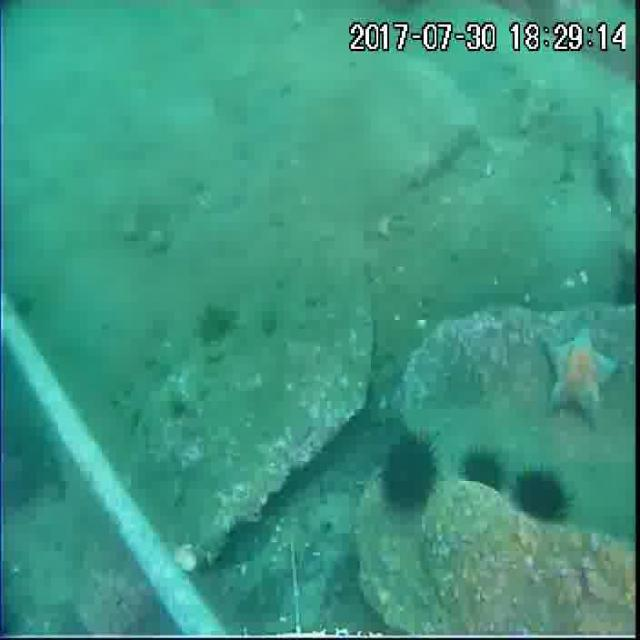echinus: (379, 426, 440, 514), (516, 470, 564, 518), (458, 444, 504, 492)
starfish: (541, 322, 618, 424)
